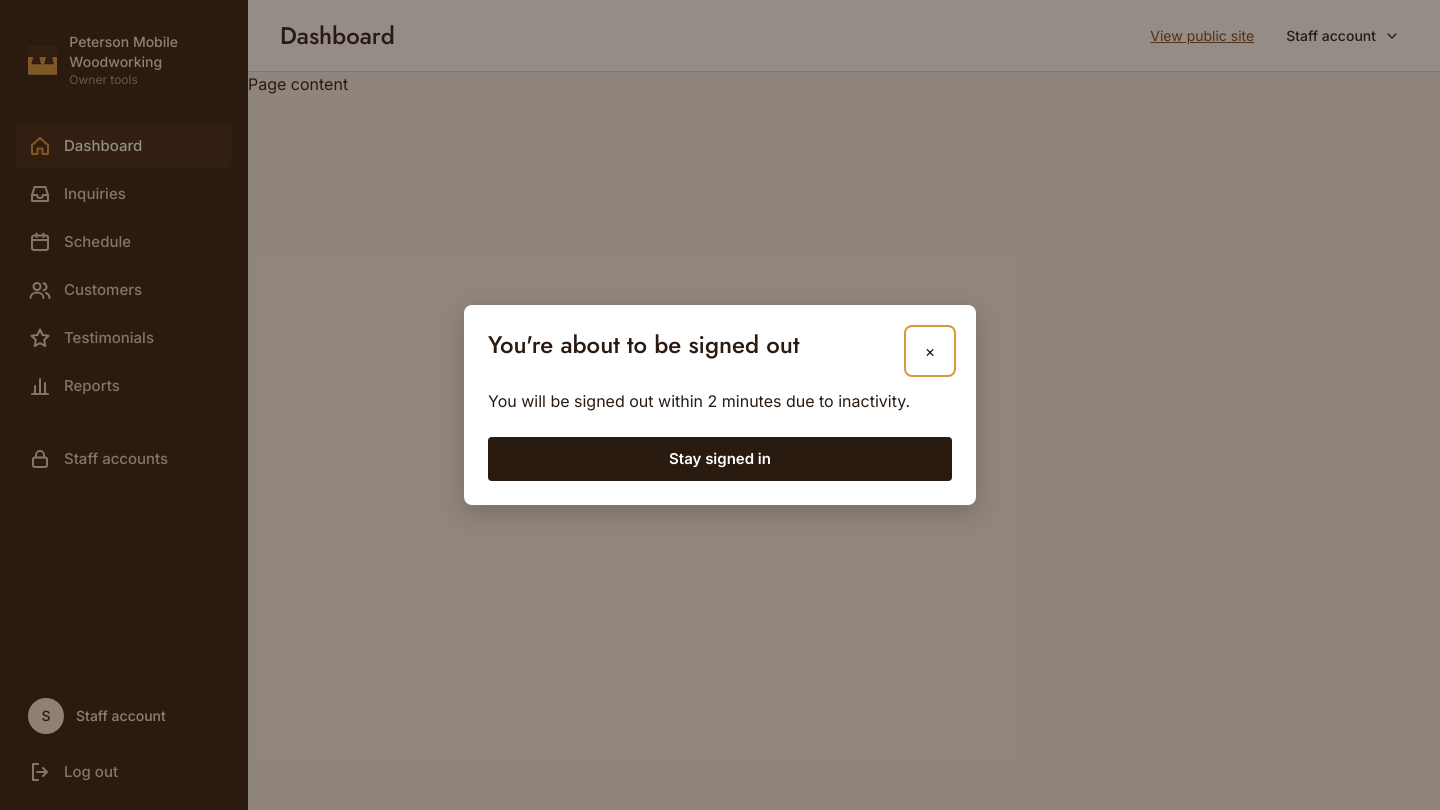
Scenario: PortalLayout › closing the warning keeps the user signed in
The width and height of the screenshot is (1440, 810).
Click the button named "Close dialog".
click(930, 351)  # box [908,329,952,373]
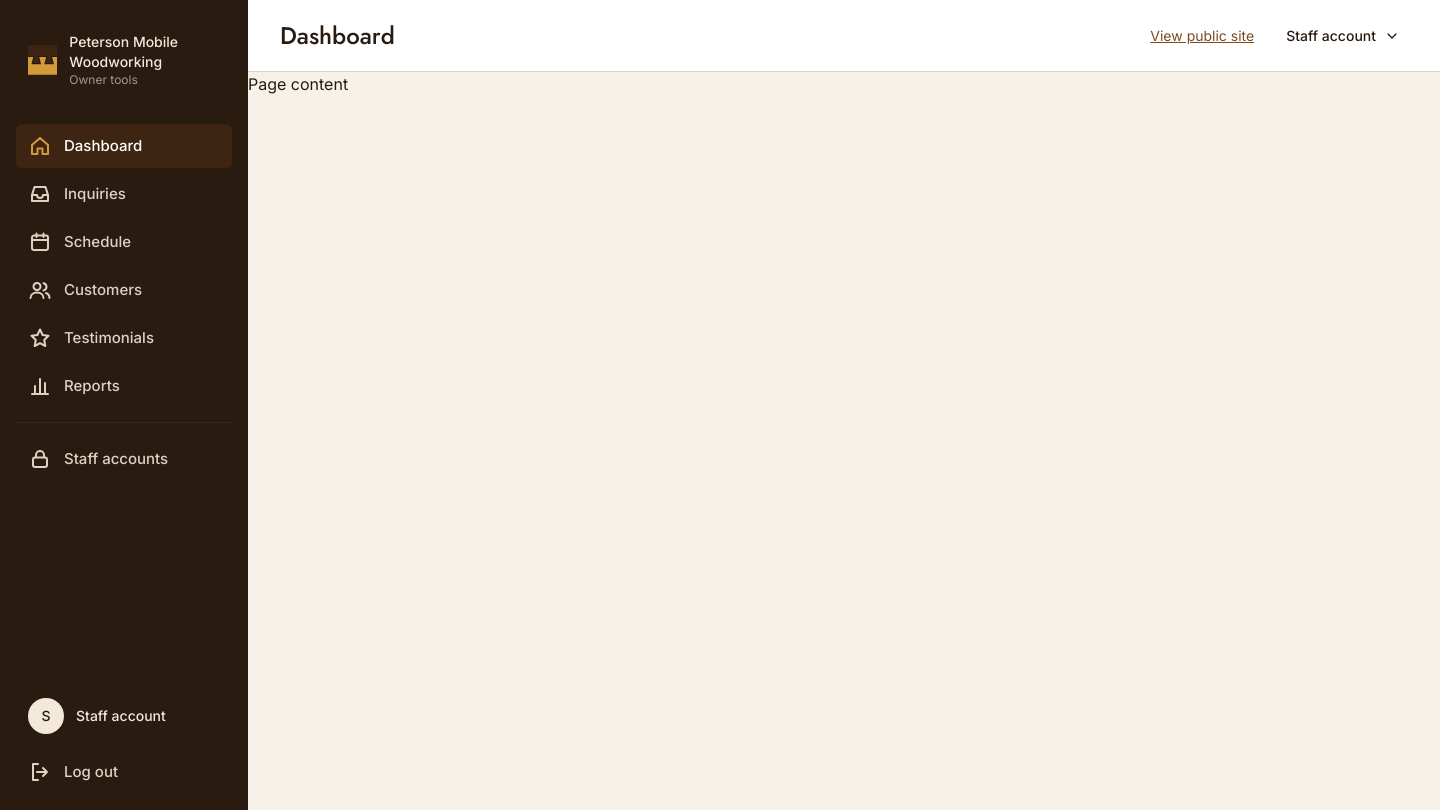
Check: the heading "You're about to be signed out" is gone
